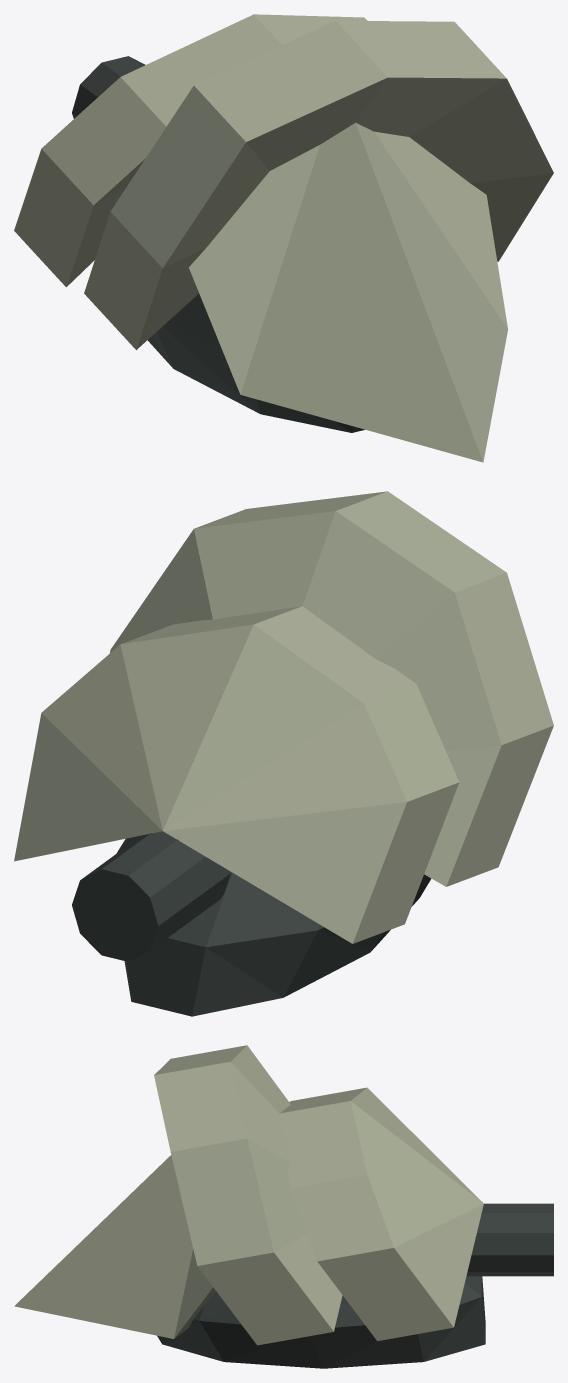
The model's file is termite.obj.
3 renders of one model, top to bottom at view 1: azimuth 30°, elevation 25°; view 2: azimuth 150°, elevation 25°; view 3: azimuth 270°, elevation 25°, orthographic. The views are drawn at different scales.
Parts seen in each view (by area): view 1: termite; view 2: termite; view 3: termite.
Part boxes in pixels (x1=…): termite: x1=14, y1=14, x2=553, y2=462; termite: x1=14, y1=491, x2=553, y2=1016; termite: x1=14, y1=1045, x2=553, y2=1368.
Bounding box in the file's own units: 0.9936 × 0.9 × 1.62.
